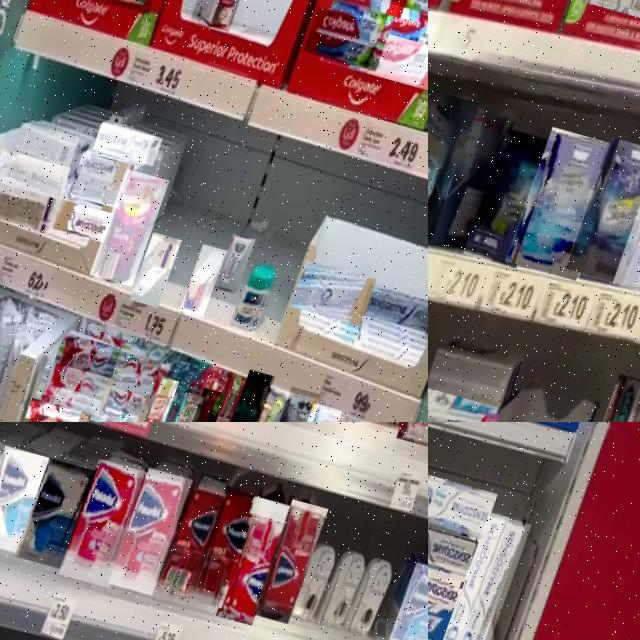Other: (513, 125, 634, 281), (470, 127, 568, 268), (63, 458, 154, 588), (113, 466, 199, 596), (221, 494, 299, 624), (574, 135, 640, 283), (257, 496, 334, 622), (160, 475, 236, 602), (96, 167, 175, 286), (19, 457, 101, 569), (428, 85, 486, 240), (195, 486, 266, 607), (0, 444, 56, 555), (237, 257, 289, 332), (393, 559, 428, 640), (222, 231, 262, 290)
Toothbrush: (216, 366, 287, 422), (256, 383, 330, 422), (229, 383, 302, 422), (134, 374, 188, 422), (173, 385, 236, 422), (148, 386, 200, 422), (159, 389, 214, 422)
Toothpaste: (467, 515, 540, 640), (450, 509, 517, 640), (303, 5, 394, 69), (296, 258, 385, 323), (428, 472, 506, 540), (42, 359, 125, 417), (428, 515, 489, 580), (137, 231, 189, 307), (73, 150, 140, 208), (0, 148, 77, 198), (60, 331, 131, 384), (367, 29, 428, 90), (187, 242, 234, 316), (428, 384, 517, 422), (15, 120, 86, 167), (96, 120, 168, 166), (365, 281, 428, 331), (109, 347, 172, 396), (428, 549, 480, 607), (57, 199, 121, 242), (0, 181, 55, 229), (98, 383, 157, 422), (596, 371, 640, 422), (27, 396, 101, 422)
